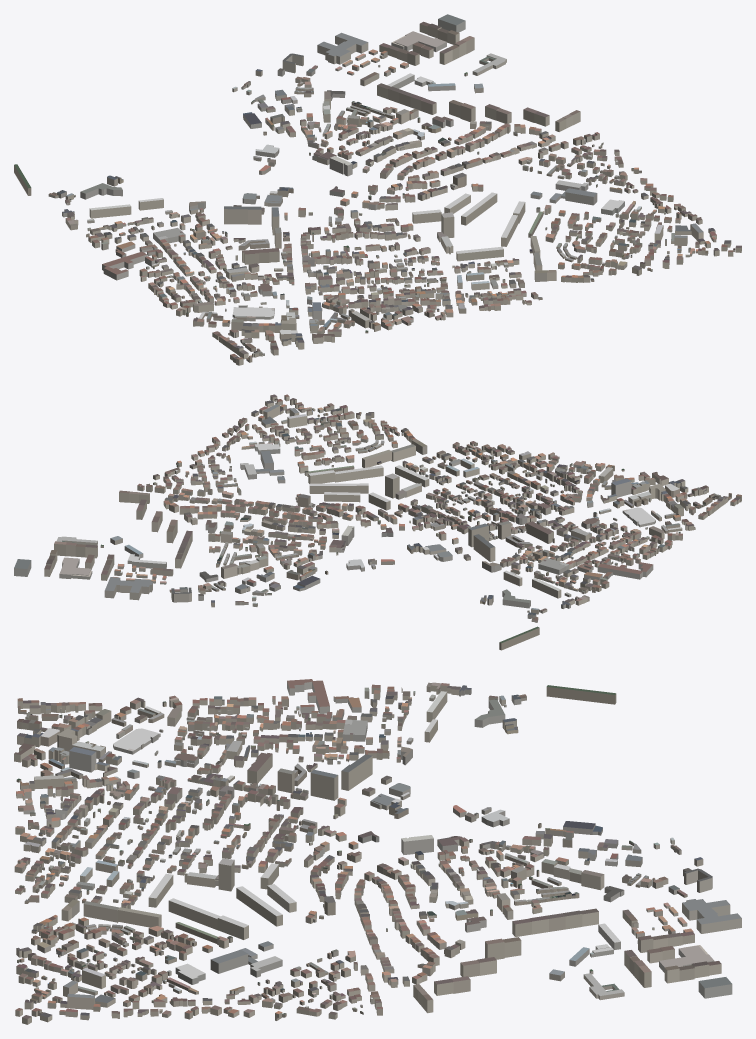
3 renders of one model, top to bottom at view 1: azimuth 30°, elevation 25°; view 2: azimuth 150°, elevation 25°; view 3: azimuth 270°, elevation 25°, orthographic. The views are drawn at different scales.
Parts seen in each view (by area): view 1: tuile; view 2: tuile; view 3: tuile.
Part boxes in pixels (x1=…): tuile: x1=14, y1=14, x2=741, y2=365; tuile: x1=14, y1=394, x2=741, y2=650; tuile: x1=14, y1=679, x2=741, y2=1024.
Size of the model in its own units: 1034 by 67 by 1008.
